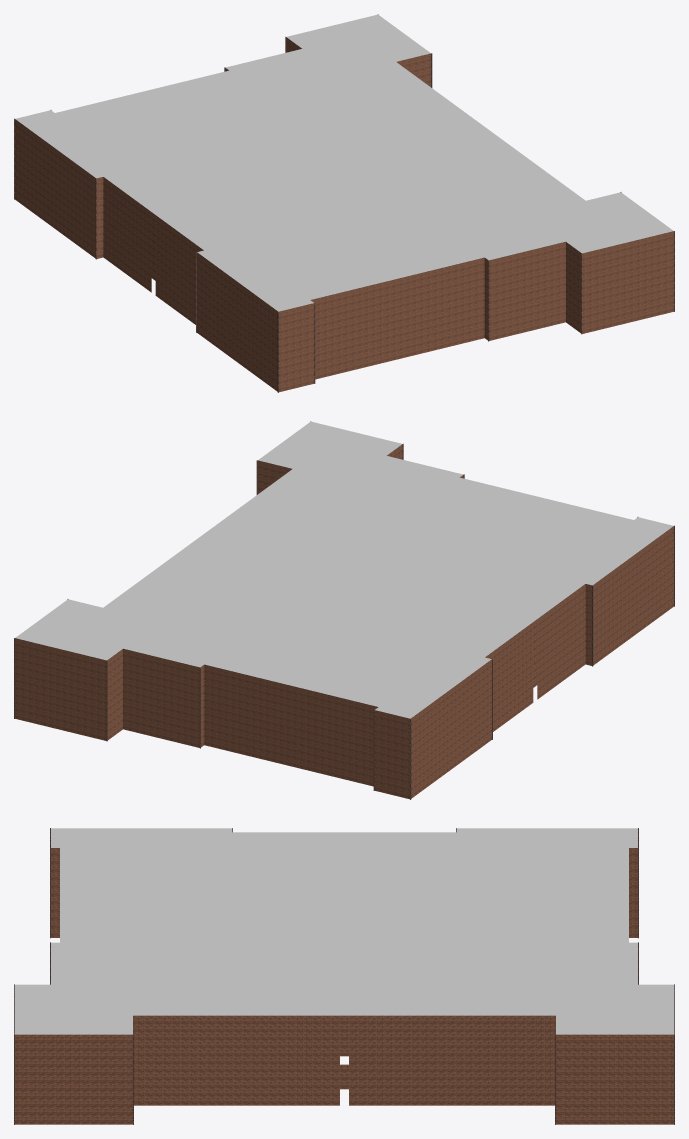
Rendered from mdb main building.fbx.
The picture shows the model from 3 angles, top to bottom: view 1: azimuth 30°, elevation 25°; view 2: azimuth 150°, elevation 25°; view 3: azimuth 270°, elevation 25°; orthographic projection. The views are drawn at different scales.
Parts seen in each view (by area): view 1: main building roof, main building; view 2: main building roof, main building; view 3: main building roof, main building.
Part boxes in pixels (left/top/right/bottom): main building roof: left=15, top=14, right=673, bottom=311; main building: left=15, top=37, right=673, bottom=392; main building roof: left=15, top=421, right=673, bottom=718; main building: left=15, top=444, right=673, bottom=799; main building roof: left=14, top=828, right=674, bottom=1034; main building: left=15, top=848, right=673, bottom=1124.
Bounding box in the file's own units: 5430 × 1100 × 7330.
